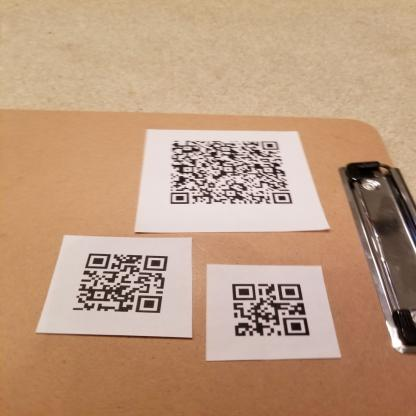qr: (165, 136, 296, 207), (72, 249, 172, 318), (228, 276, 317, 340)
